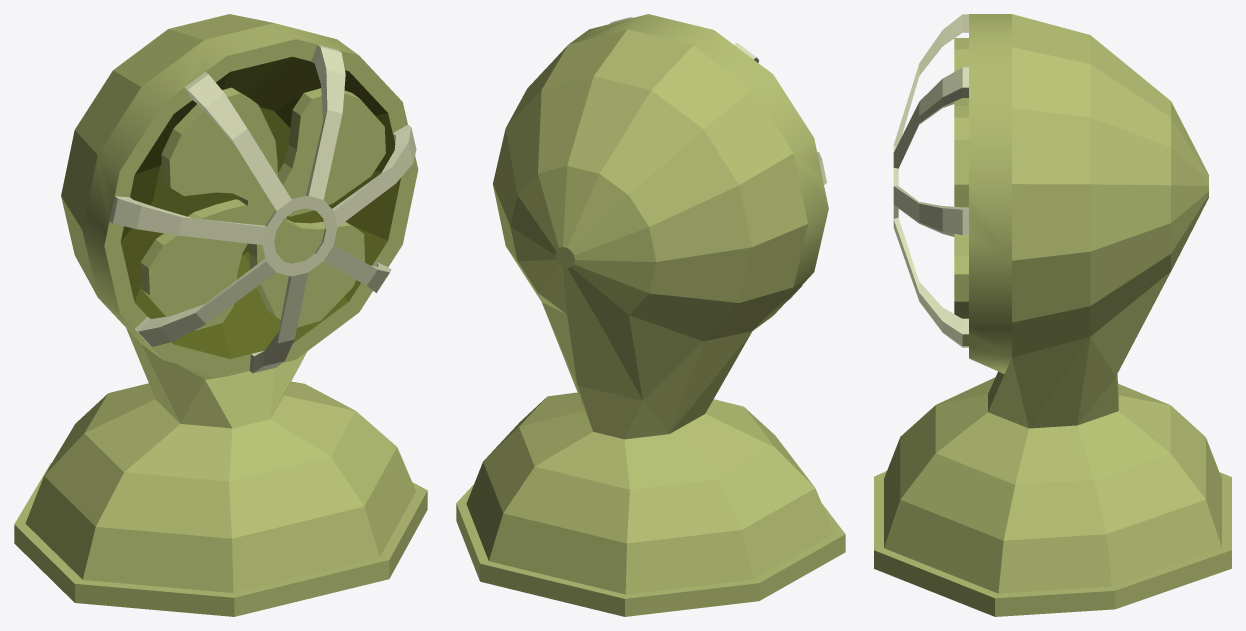
File: Fan Fixed.FBX
The picture shows the model from 3 angles, left to right: view 1: azimuth 30°, elevation 25°; view 2: azimuth 150°, elevation 25°; view 3: azimuth 270°, elevation 25°; orthographic projection. The views are drawn at different scales.
Visible parts, largest first — view 1: Fan; view 2: Fan; view 3: Fan.
Boxes of the visible parts, x1,y1,x2,y2 form: Fan: (14,14,427,616); Fan: (456,14,845,616); Fan: (874,14,1231,616).
Bounding box in the file's own units: 174 × 237 × 153.
Materials: 1 (1 with a texture image).
